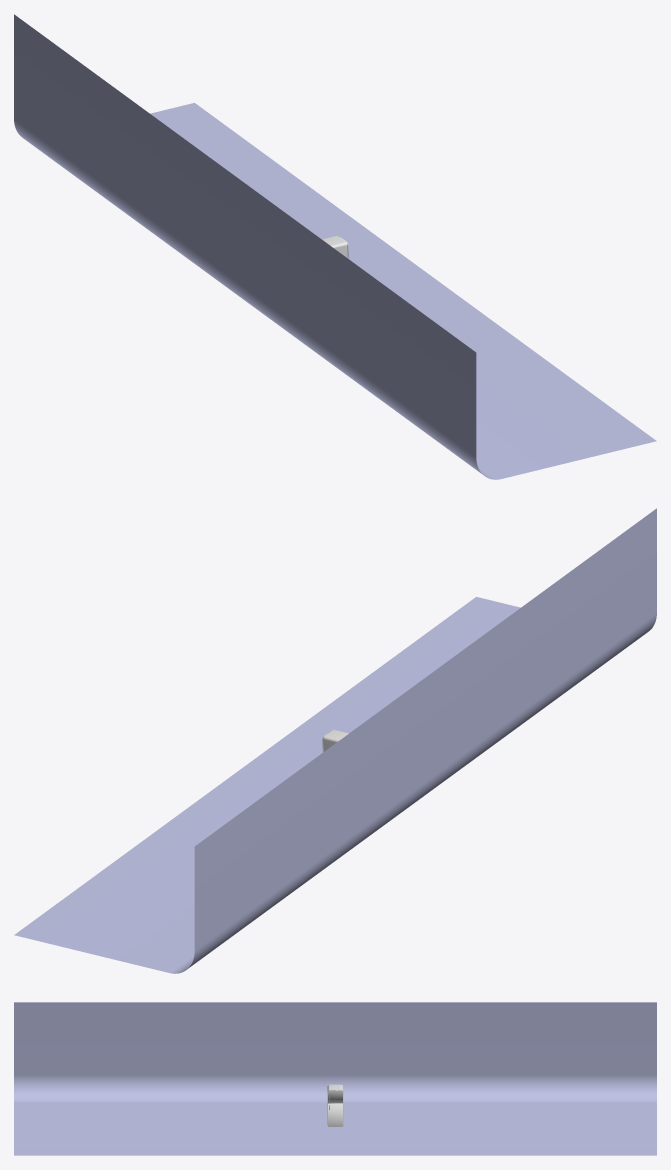
Rendered from fundal.glb.
The picture shows the model from 3 angles, top to bottom: view 1: azimuth 30°, elevation 25°; view 2: azimuth 150°, elevation 25°; view 3: azimuth 270°, elevation 25°; orthographic projection. The views are drawn at different scales.
Visible parts, largest first — view 1: Fundal; view 2: Fundal; view 3: Fundal, Cube.
Boxes of the visible parts, x1=… form: Fundal: x1=14, y1=14, x2=656, y2=479; Fundal: x1=14, y1=508, x2=656, y2=973; Fundal: x1=14, y1=1002, x2=656, y2=1155; Cube: x1=327, y1=1084, x2=343, y2=1126.
Size of the model in its own units: 13.24 by 9.29 by 58.69.
